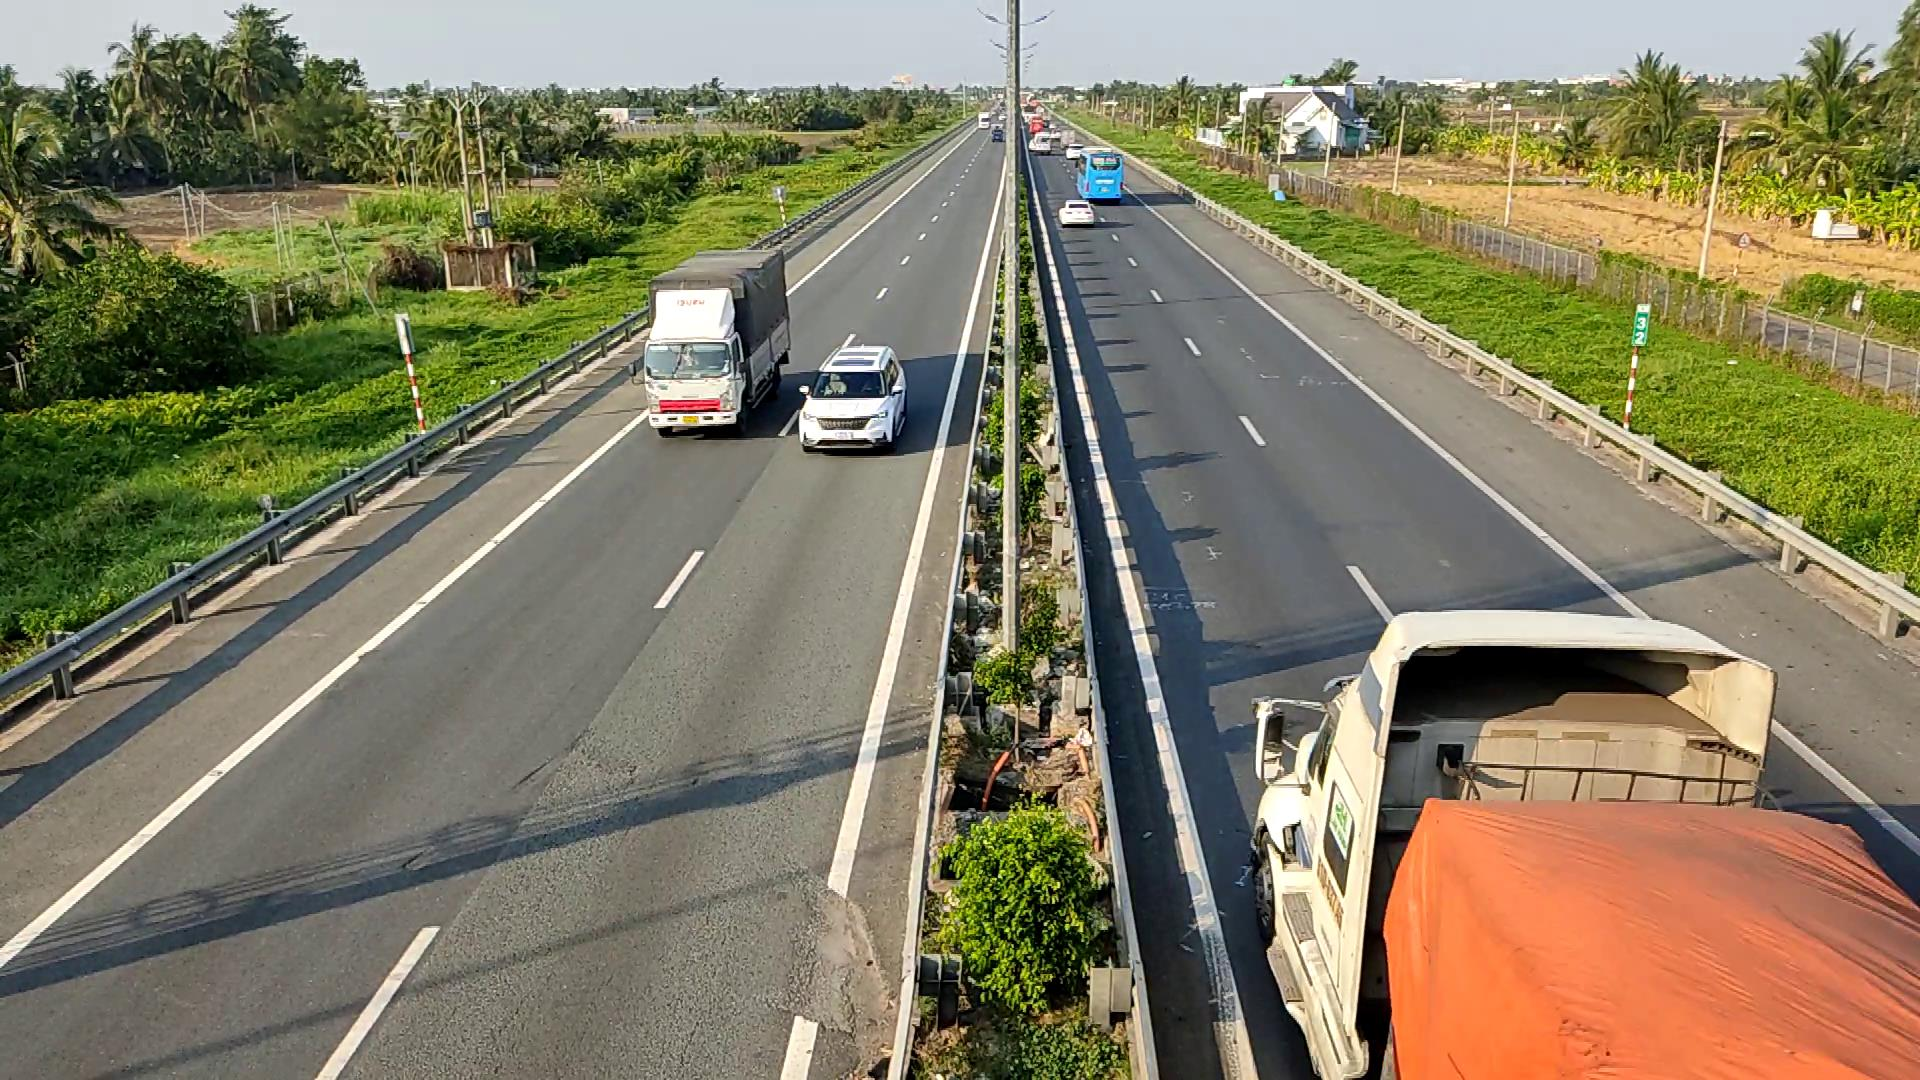truck: (1241, 567, 1920, 1065), (640, 244, 793, 436), (795, 334, 909, 454)
